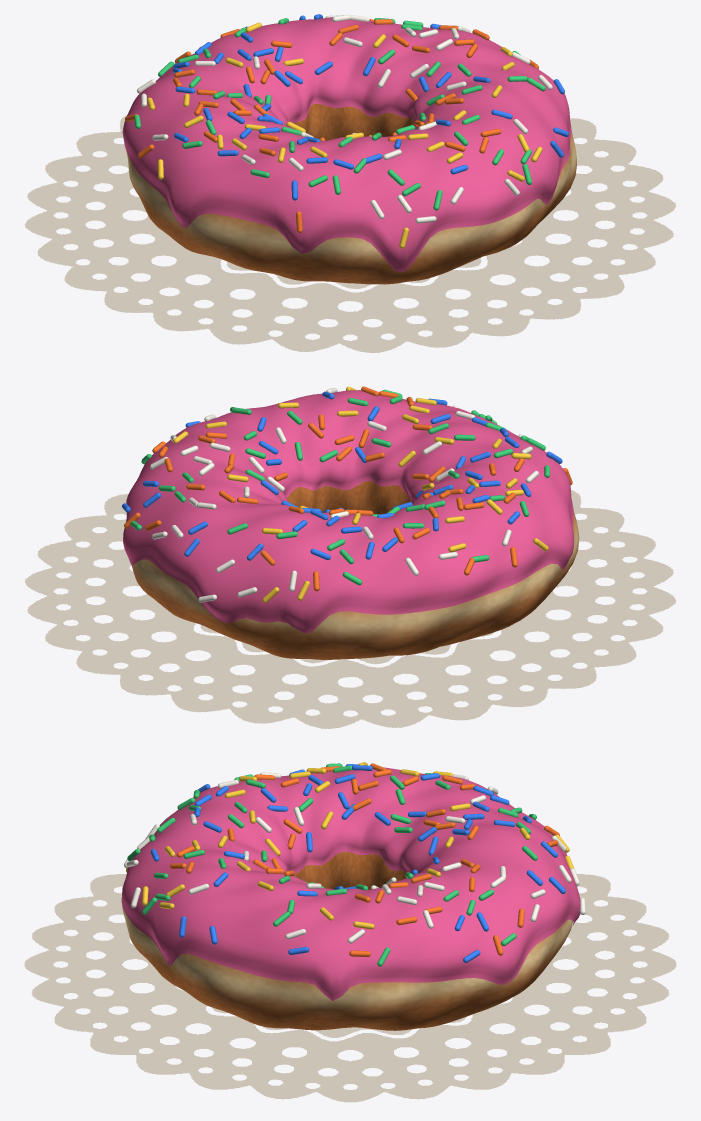
File: donut.glb
3 renders of one model, top to bottom at view 1: azimuth 30°, elevation 25°; view 2: azimuth 150°, elevation 25°; view 3: azimuth 270°, elevation 25°, orthographic.
Visible parts, largest first — view 1: Icing, Doily, Dough; view 2: Icing, Doily, Dough; view 3: Icing, Doily, Dough.
Part boxes in pixels (bbox=[...]): Icing: bbox=[122, 17, 571, 271]; Doily: bbox=[24, 115, 676, 352]; Dough: bbox=[126, 104, 576, 284]; Icing: bbox=[123, 390, 573, 633]; Doily: bbox=[25, 490, 675, 728]; Dough: bbox=[132, 481, 579, 659]; Icing: bbox=[121, 767, 580, 1000]; Doily: bbox=[24, 874, 676, 1102]; Dough: bbox=[122, 851, 572, 1030].
Size of the model in its own units: 3 by 0.6658 by 3.
Materials: 8 (2 with a texture image).
